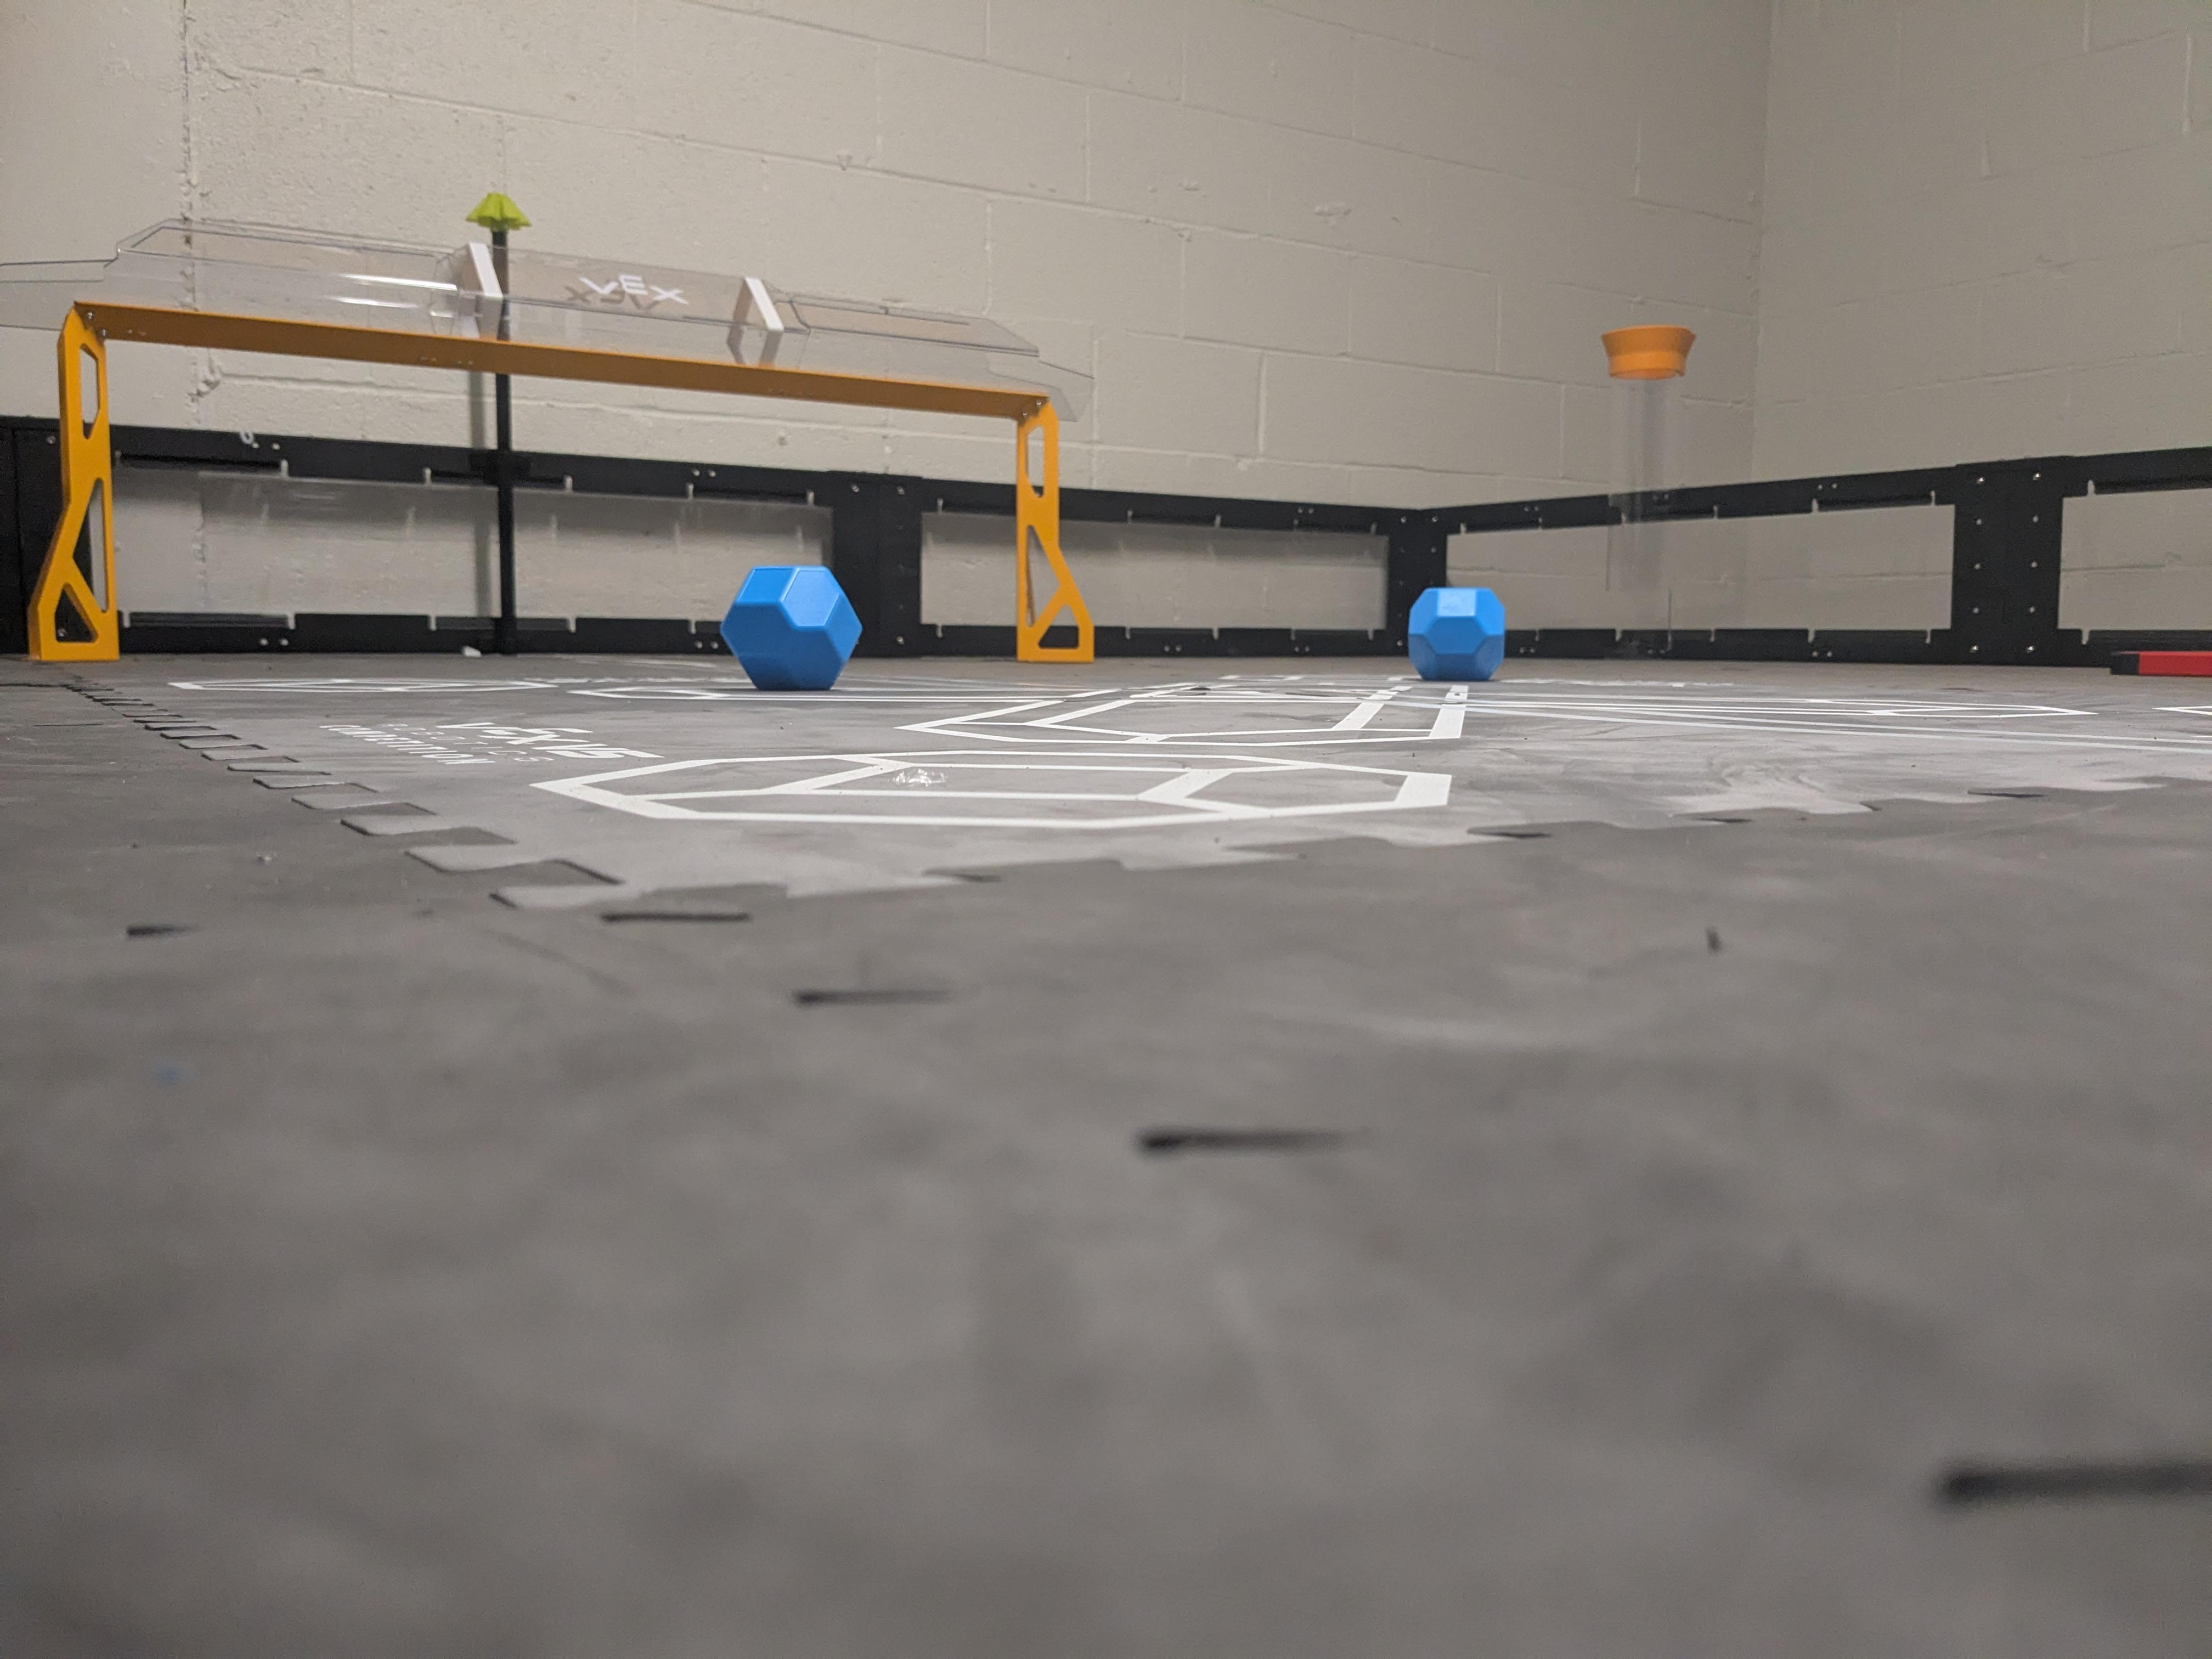Vex-Pieces-BLUE: (723, 565, 857, 688), (1406, 587, 1503, 681)
